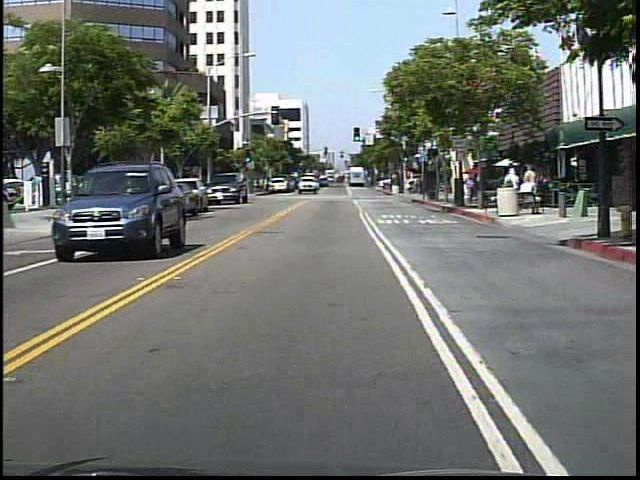person: (462, 172, 478, 206), (258, 173, 272, 199)
